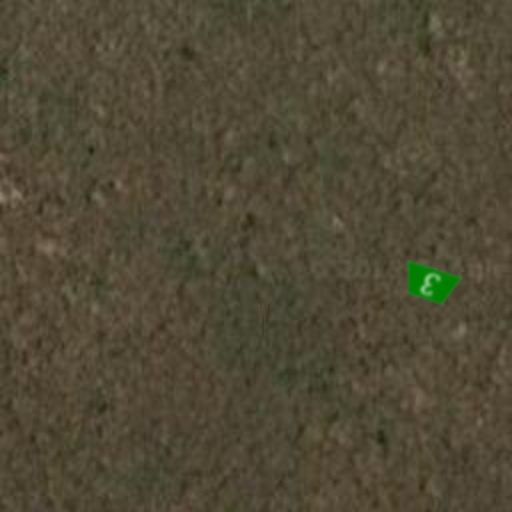trapezoid: (392, 246, 468, 322)
